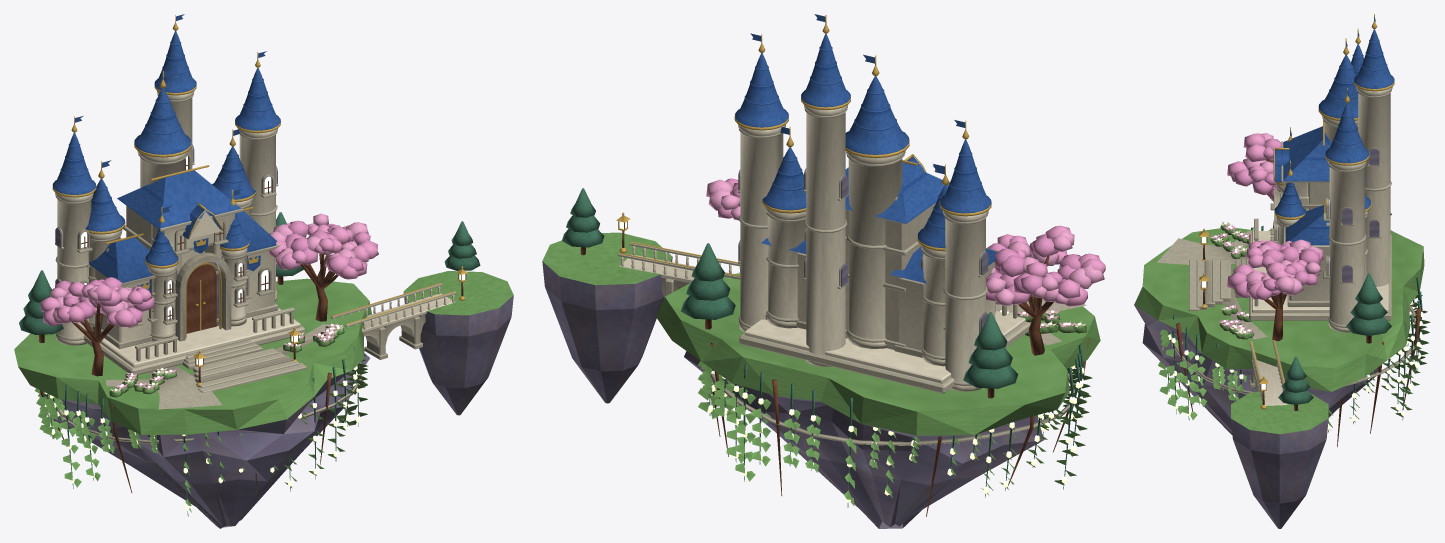
File: royal-island-citadel.glb
The picture shows the model from 3 angles, left to right: view 1: azimuth 30°, elevation 25°; view 2: azimuth 150°, elevation 25°; view 3: azimuth 270°, elevation 25°; orthographic projection. The views are drawn at different scales.
Visible parts, largest first — view 1: royal-island-citadel; view 2: royal-island-citadel; view 3: royal-island-citadel.
Part boxes in pixels (box(x1,y1,x2,y2)): royal-island-citadel: box(14, 14, 513, 528); royal-island-citadel: box(542, 14, 1105, 528); royal-island-citadel: box(1134, 14, 1430, 528).
Bounding box in the file's own units: 18.98 × 18.47 × 10.98.
10 materials, 10 textured.
